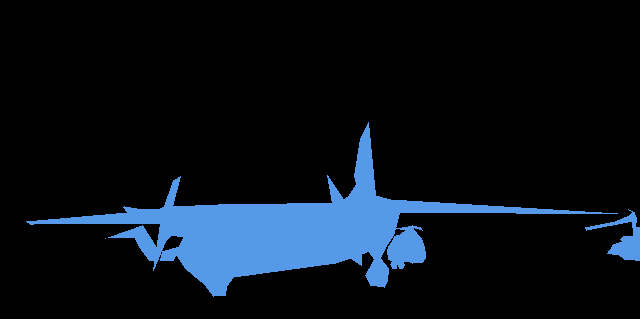Airplane: (26, 122, 633, 297), (585, 209, 640, 261), (105, 225, 180, 261), (387, 225, 426, 269)
